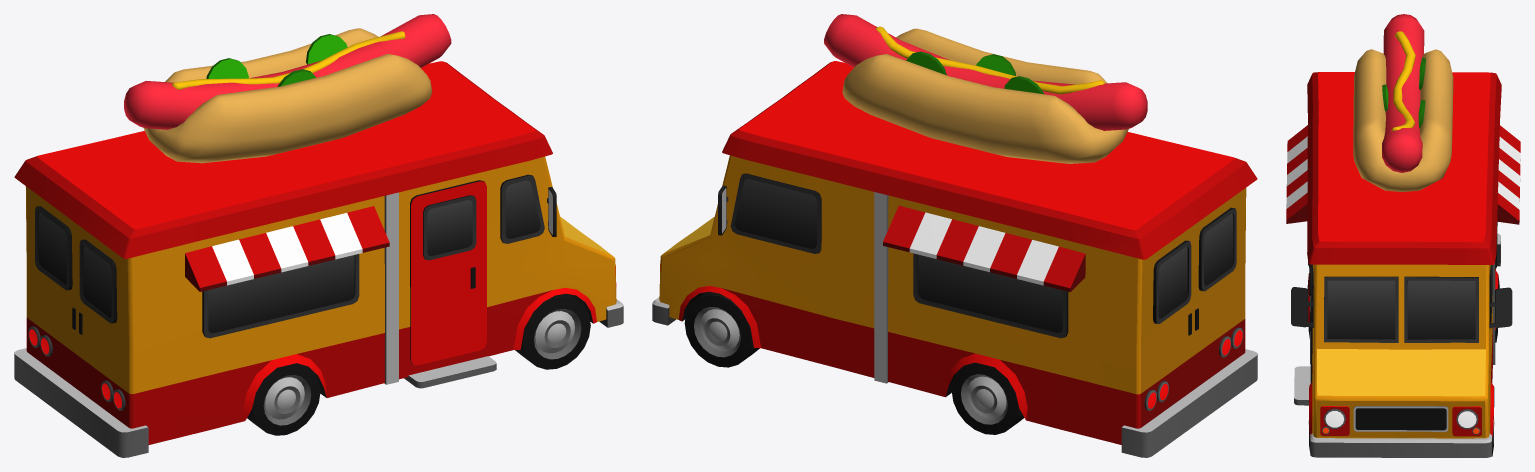
File: Truck_014.glb
3 renders of one model, left to right at view 1: azimuth 30°, elevation 25°; view 2: azimuth 150°, elevation 25°; view 3: azimuth 270°, elevation 25°, orthographic. The views are drawn at different scales.
Parts seen in each view (by area): view 1: Truck_014, wheel_1_Truck_014_Wheel_1R, wheel_3_Truck_014_Wheel_2R; view 2: Truck_014, wheel_0_Truck_014_Wheel_1L, wheel_2_Truck_014_Wheel_2L; view 3: Truck_014.
Part boxes in pixels (box(x1,y1,x2,y2)): Truck_014: box(14, 14, 623, 457); wheel_1_Truck_014_Wheel_1R: box(515, 293, 590, 369); wheel_3_Truck_014_Wheel_2R: box(247, 363, 320, 435); Truck_014: box(652, 14, 1257, 457); wheel_0_Truck_014_Wheel_1L: box(684, 291, 759, 367); wheel_2_Truck_014_Wheel_2L: box(951, 362, 1024, 434); Truck_014: box(1286, 14, 1520, 457).
Size of the model in its own units: 5.4 by 3.38 by 2.51.
Materials: 3 (3 with a texture image).
